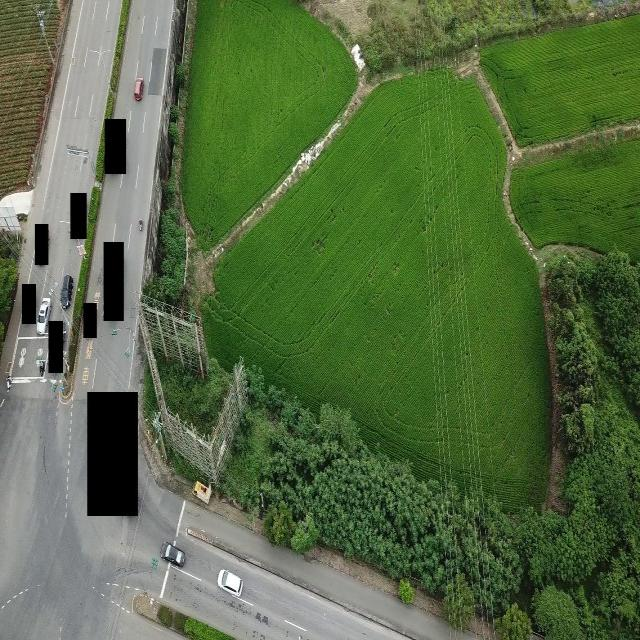bike: (255, 611, 269, 628), (6, 363, 12, 391), (38, 358, 46, 378), (139, 218, 143, 230)
car: (219, 569, 244, 595), (162, 540, 186, 565), (37, 298, 52, 336), (194, 480, 212, 503), (63, 274, 75, 308), (135, 77, 145, 102)
